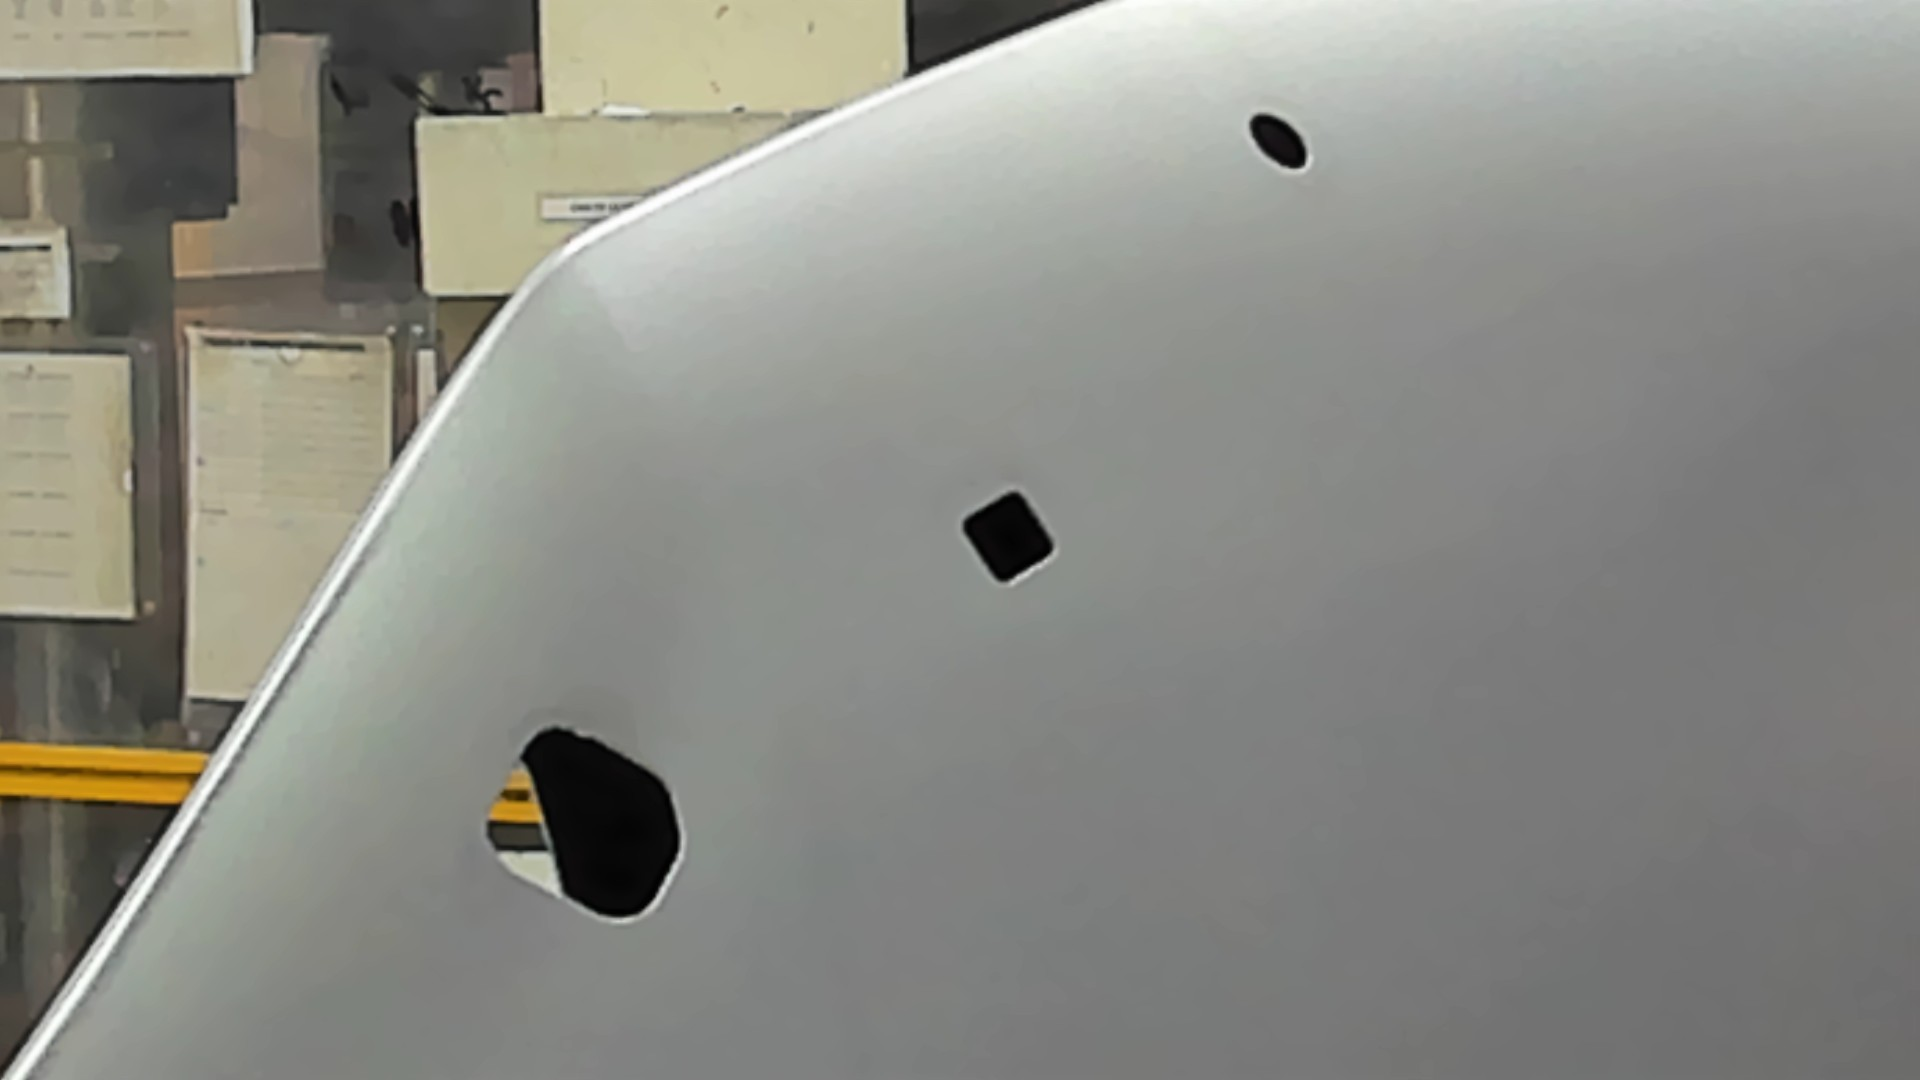chico: (1247, 107, 1313, 174)
grande: (481, 721, 690, 926)
mediano: (959, 484, 1062, 589)
